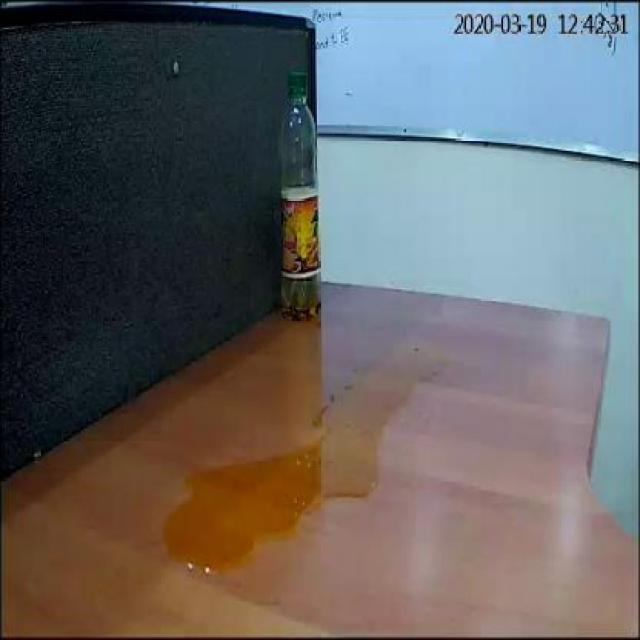spill: (159, 332, 439, 574)
